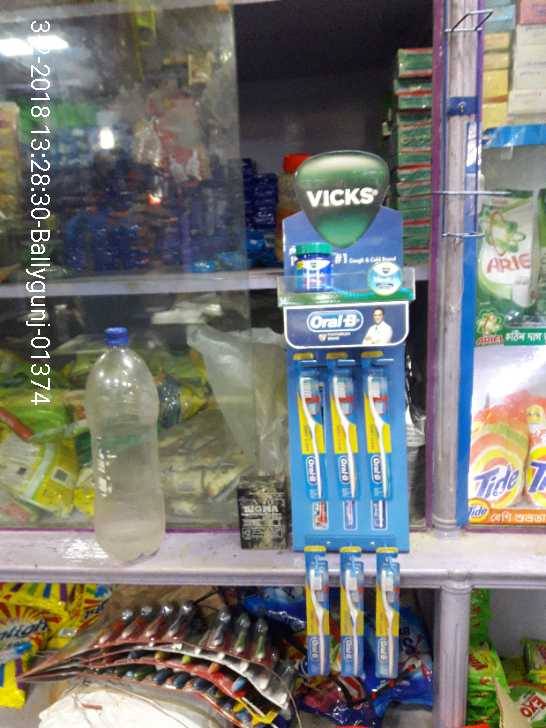home: (475, 182, 544, 316), (475, 395, 546, 501)
pharmacy: (359, 369, 401, 506), (322, 369, 365, 501), (296, 368, 333, 509), (371, 556, 407, 681), (304, 550, 337, 673), (336, 558, 365, 673), (284, 246, 340, 297)
